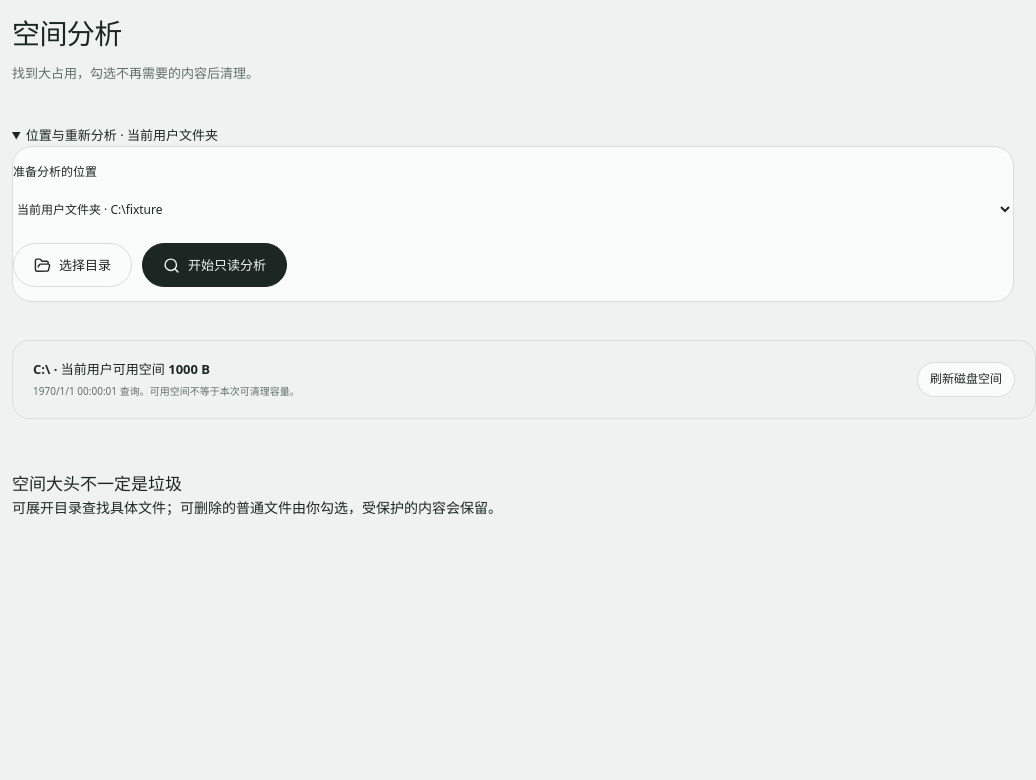
Test: keeps one same-volume baseline across directories and retains dated values on failure
Check: the text "C:\\ · 当前用户可用空间 1000 B" is shown, box left=33, top=360, right=210, bottom=378
Select "同卷目录 · C:\\other" in the dropdown labelled "准备分析的位置" at (513, 209), box left=13, top=189, right=1013, bottom=229
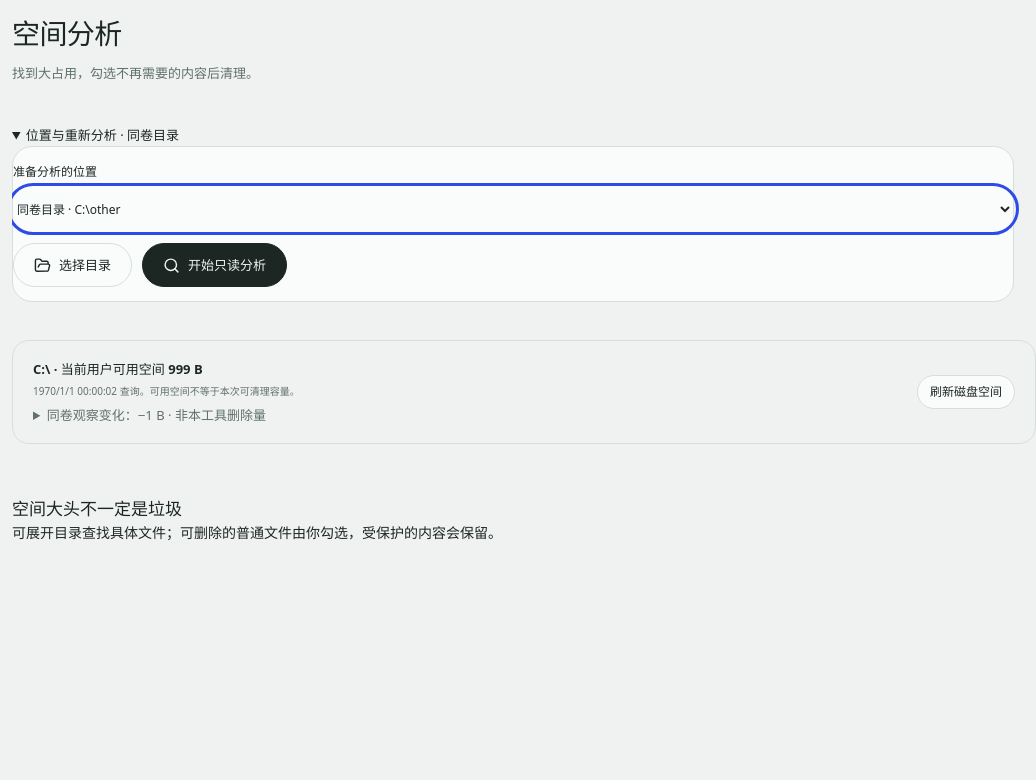
Click the button "刷新磁盘空间" at (966, 392), box left=917, top=375, right=1015, bottom=409
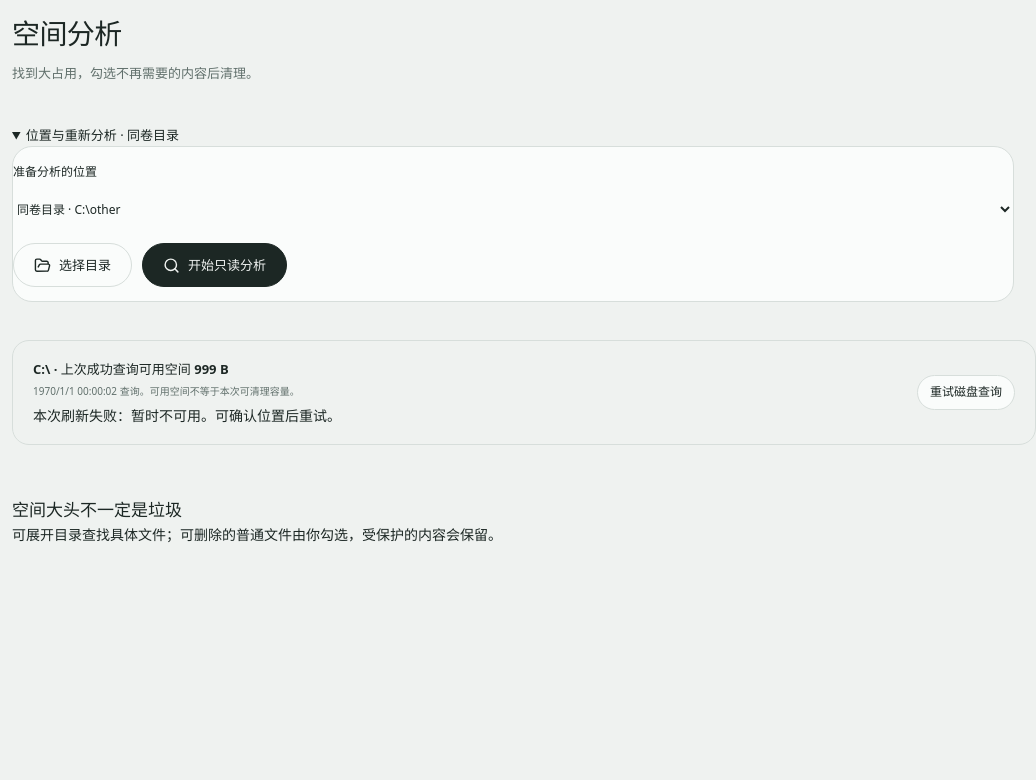
Check: the text "C:\\ · 上次成功查询可用空间 999 B" is shown, box left=33, top=360, right=229, bottom=378
Check: the text "本次刷新失败：暂时不可用。可确认位置后重试。" is shown, box left=33, top=405, right=341, bottom=426
